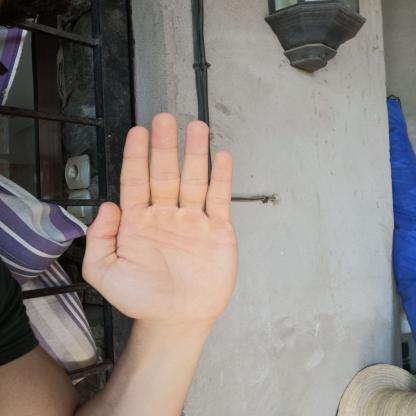SEEN: (71, 103, 249, 332)
